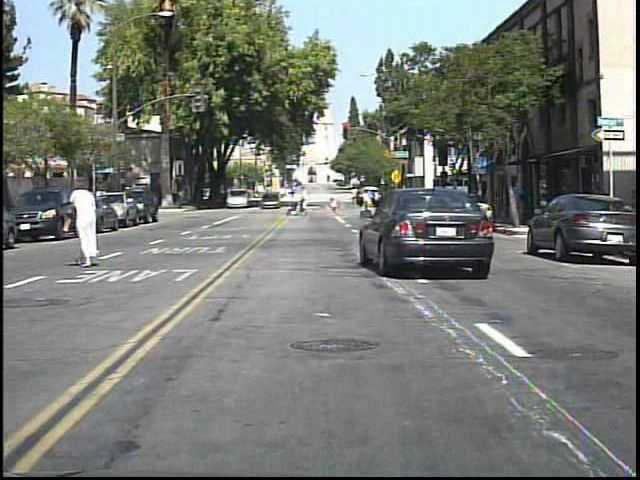person: (65, 177, 108, 270), (297, 183, 313, 218), (519, 182, 520, 213)
